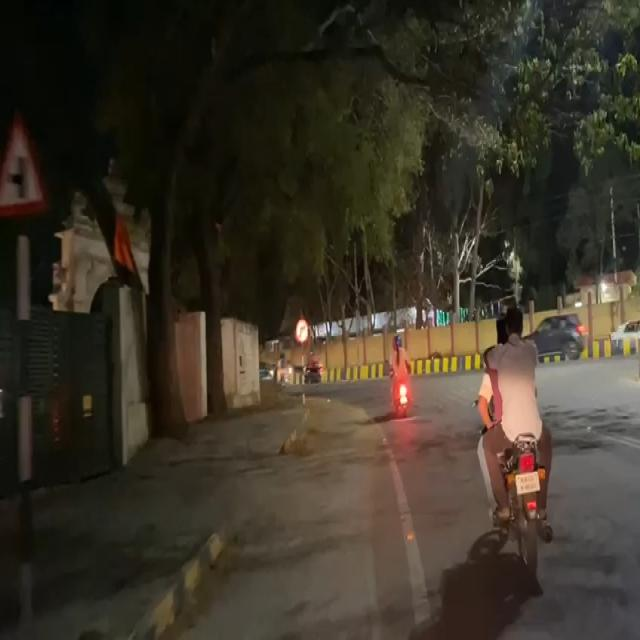bien_cam: (0, 110, 49, 218), (294, 318, 309, 345)
